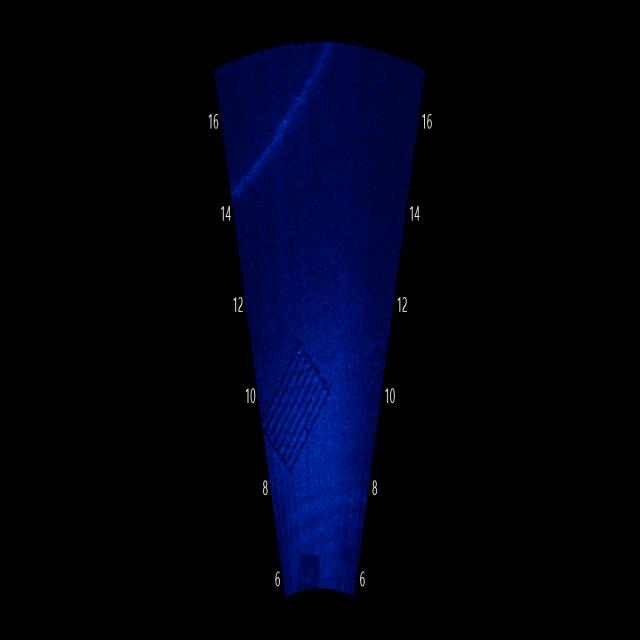square: (257, 336, 339, 486)
